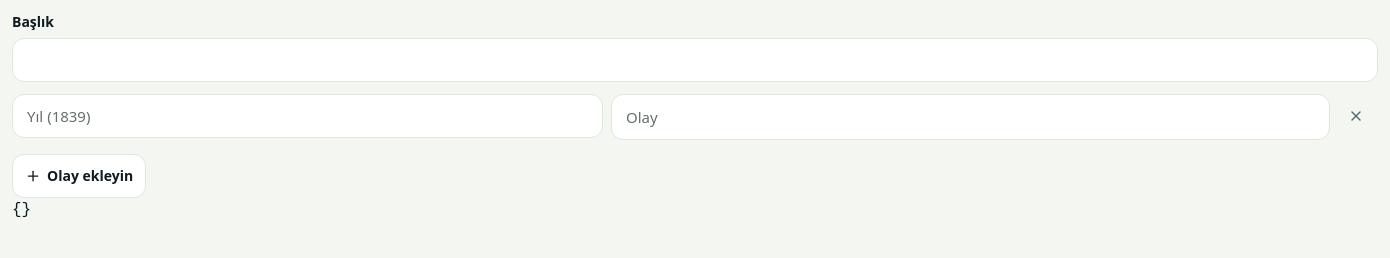
Test: satır formları gerçek yazımla › çizelge: yıl alanına yalnızca rakam girilir
Step 1. Type "18a39x" into the field named "Yıl 1" → (308, 116), box x1=12 y1=94 x2=603 y2=138
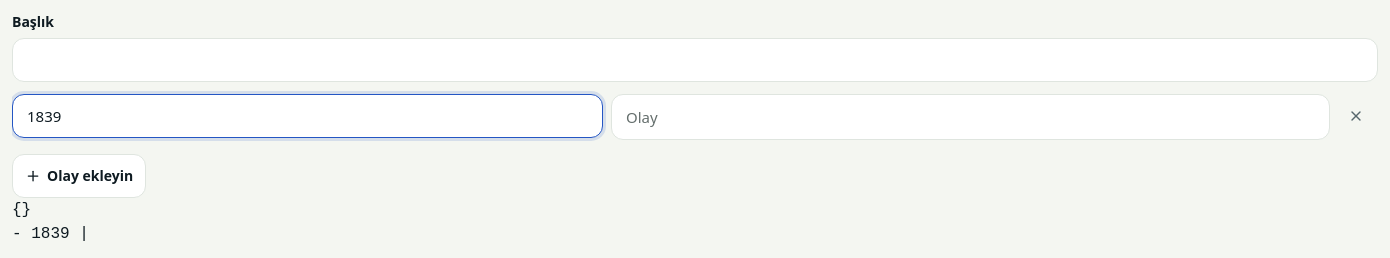
Check: the field named "Yıl 1" holds "1839", box x1=12 y1=94 x2=603 y2=138
